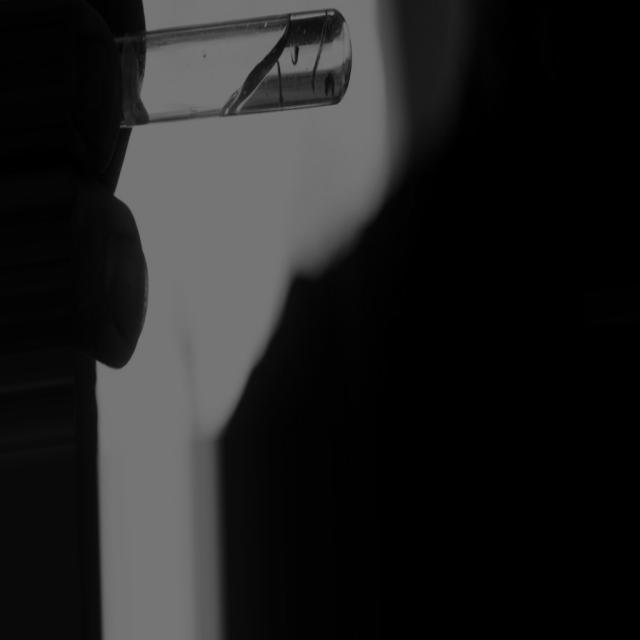larvas: (312, 12, 332, 84), (271, 56, 284, 102), (320, 76, 336, 94), (287, 45, 301, 65)
